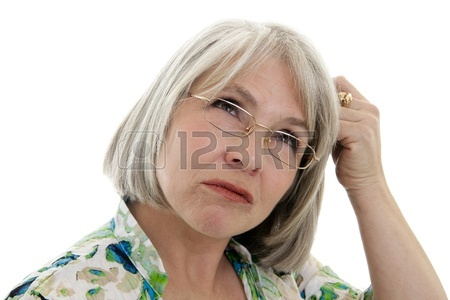confused: (154, 57, 311, 251)
